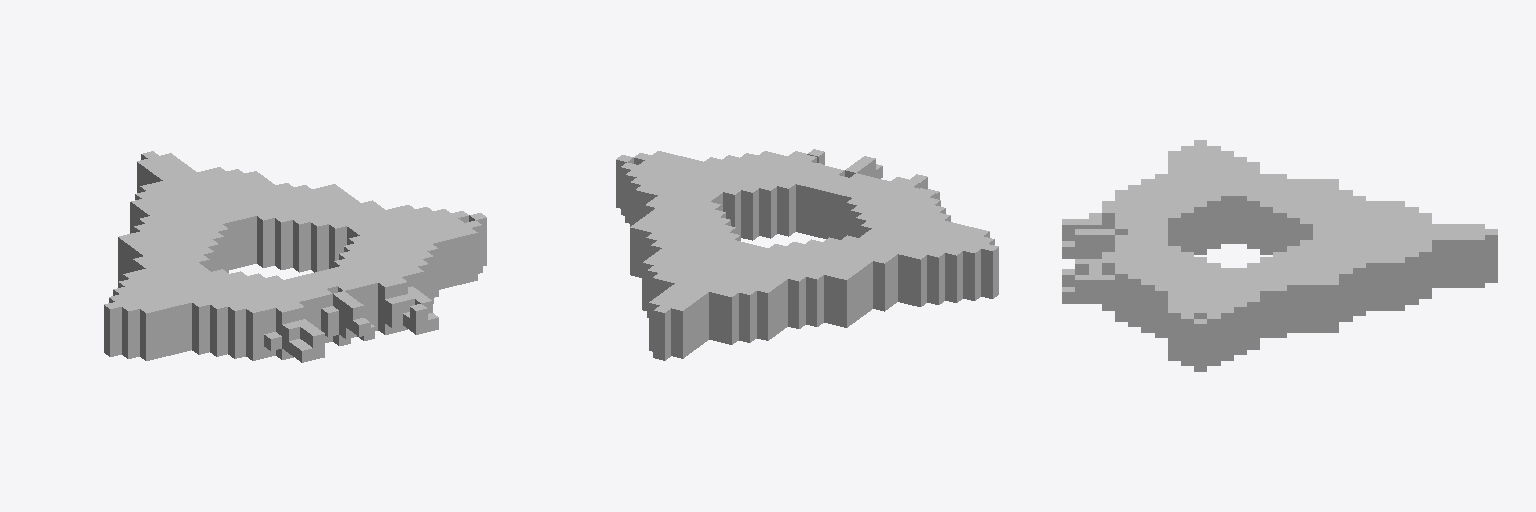
The model's file is Hole.obj.
The picture shows the model from 3 angles: view 1: azimuth 30°, elevation 25°; view 2: azimuth 150°, elevation 25°; view 3: azimuth 270°, elevation 25°; orthographic projection.
Visible parts, largest first — view 1: object 1; view 2: object 1; view 3: object 1.
Part boxes in pixels (left/top/right/bottom): object 1: left=104, top=151, right=486, bottom=362; object 1: left=616, top=149, right=998, bottom=360; object 1: left=1062, top=140, right=1497, bottom=371.
Size of the model in its own units: 3.3 by 0.4 by 3.3.